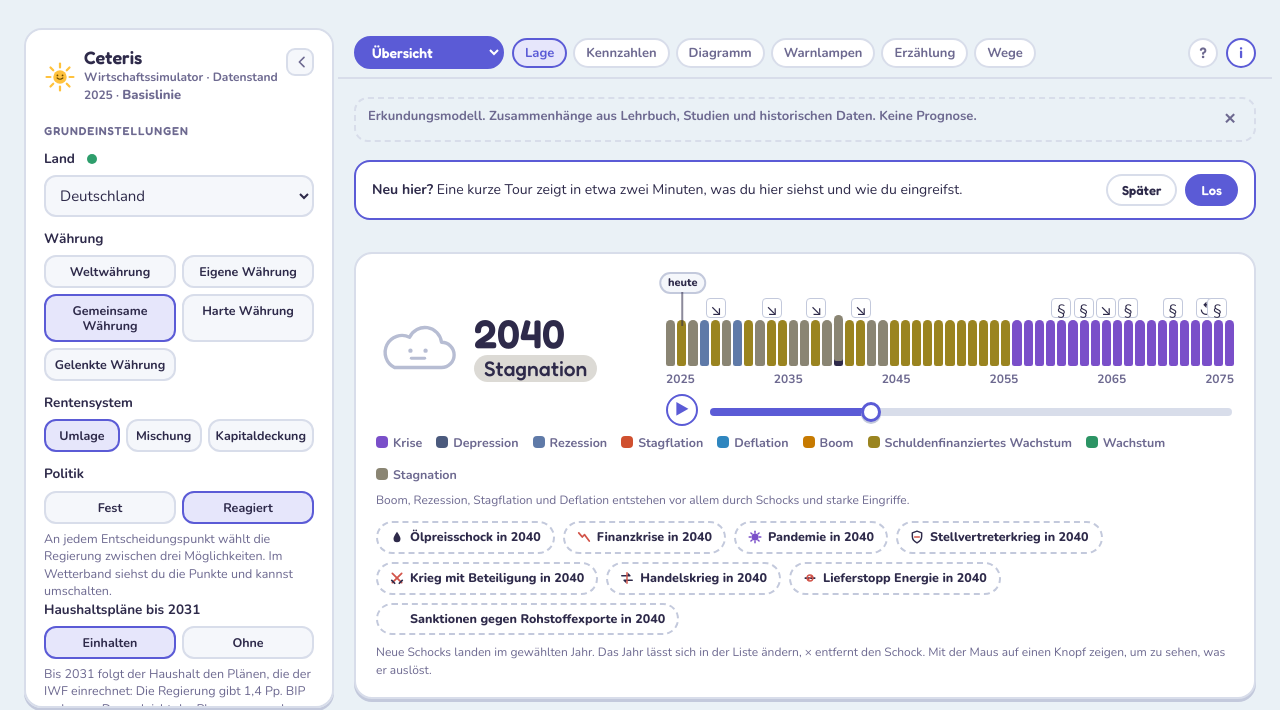
Test: Vergleich › Update 4a: Zeilen der Ordnung erscheinen, wenn nur der Vergleichspartner sie braucht
Select "Vergleich" in the dropdown named "Ansichten" at point(429, 52), box [354,36,504,69]
(page scrolled)
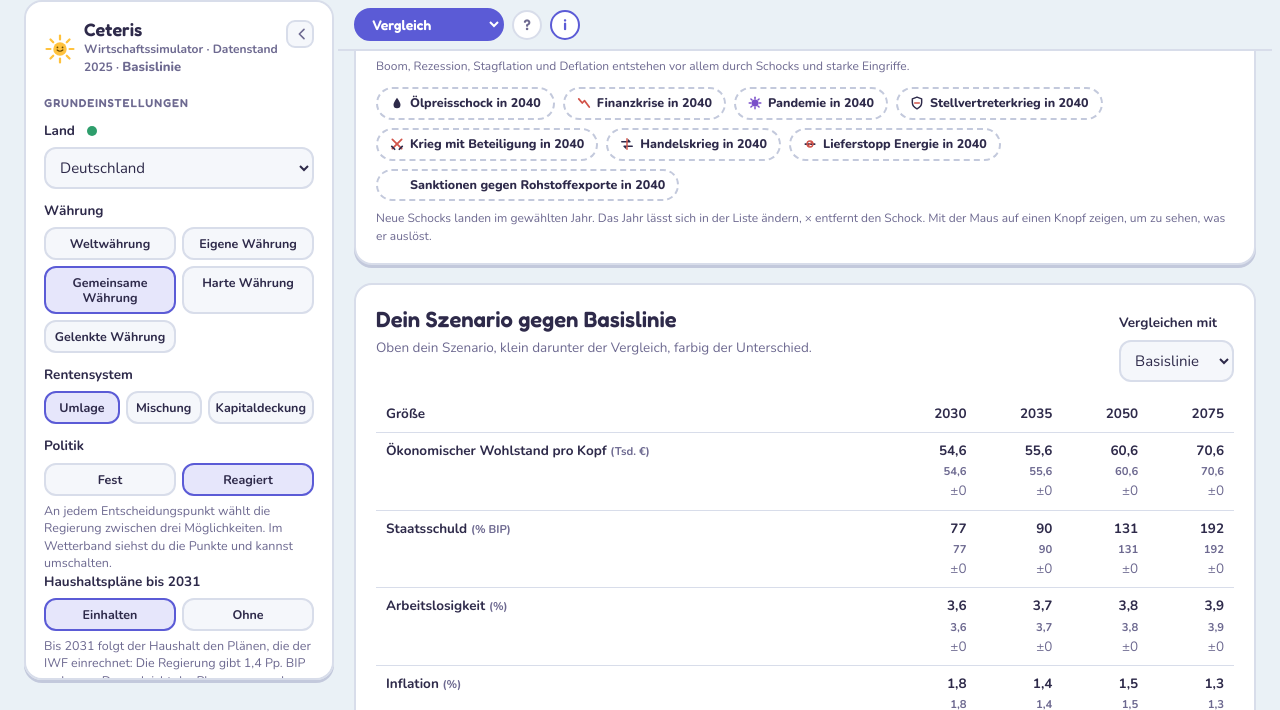
expect the element "Knappheit" is not shown: met
Select "Kontrollen" in the dropdown labelled "Vergleichen mit" at point(1176, 360), box [1119,340,1234,382]
(page scrolled)
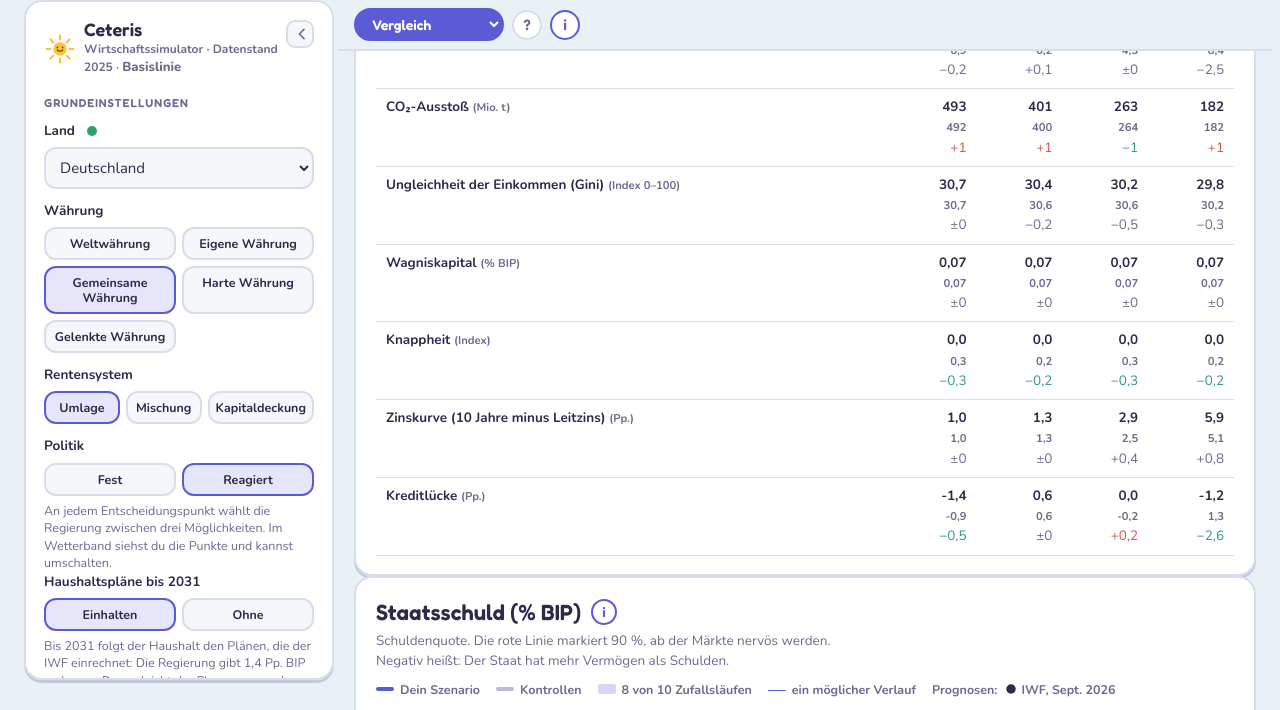
expect the column heading "Knappheit (Index)" is shown: met, box [376,322,891,400]
